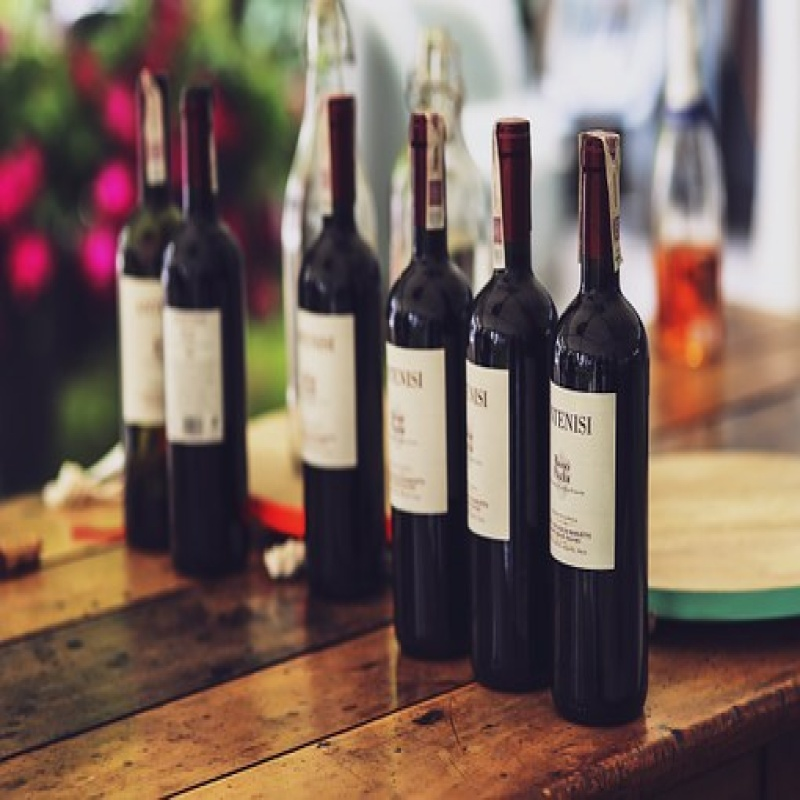wine: (539, 136, 645, 718), (283, 88, 382, 594), (467, 116, 550, 708), (159, 83, 248, 563), (393, 114, 469, 650)
